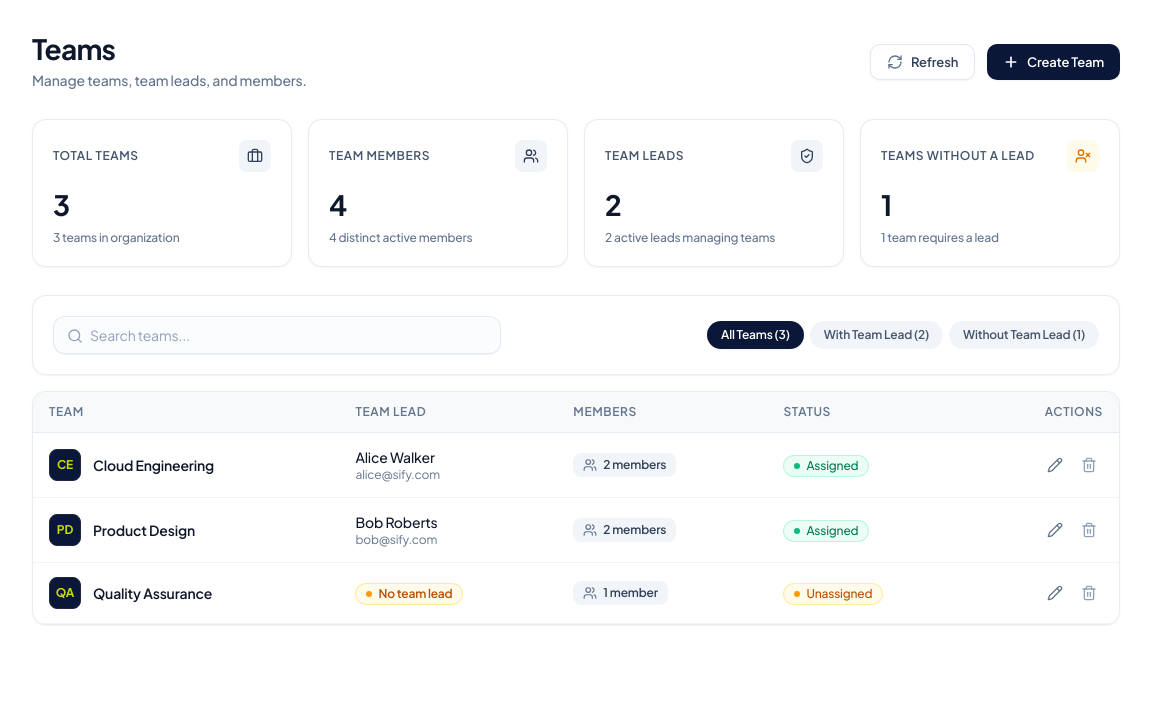
Test: TeamsList UX and Functionality Improvements › shows member counts and opens member roster on click
This screenshot has width=1152, height=720.
Click the button with aria-label "View roster for Cloud Engineering".
click(625, 465)  # box [573,453,676,477]
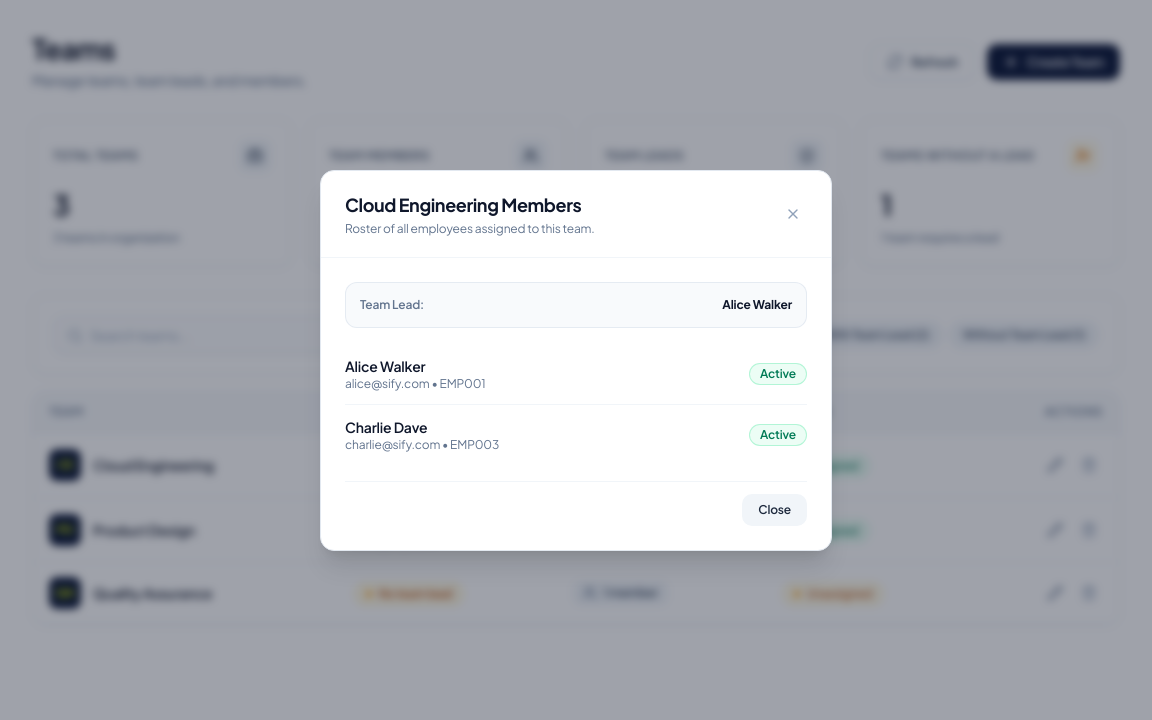
Check: the heading "Cloud Engineering Members" is shown, box [345,190,594,218]
Check: the text "Charlie Dave" is shown, box [345,418,427,436]
